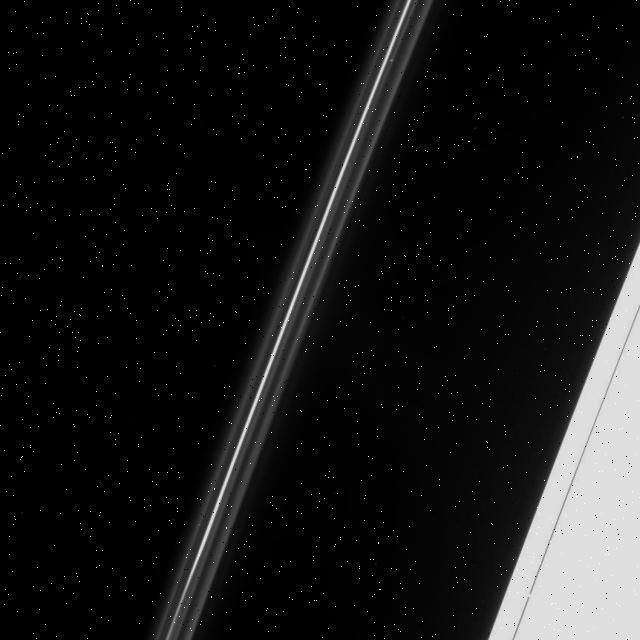Saturn: (132, 0, 640, 640)
